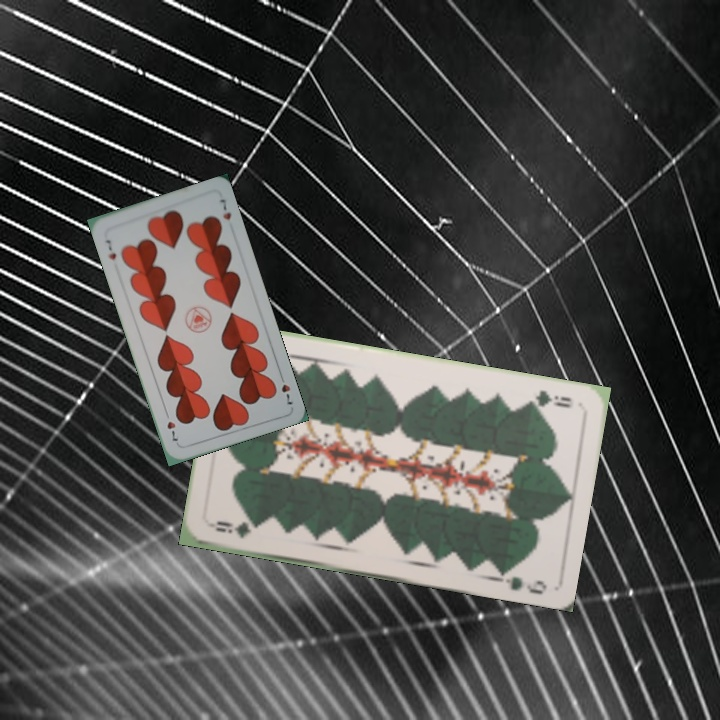G9: (522, 386, 575, 411), (211, 517, 254, 541)
H7: (275, 369, 295, 407), (102, 236, 119, 262)
